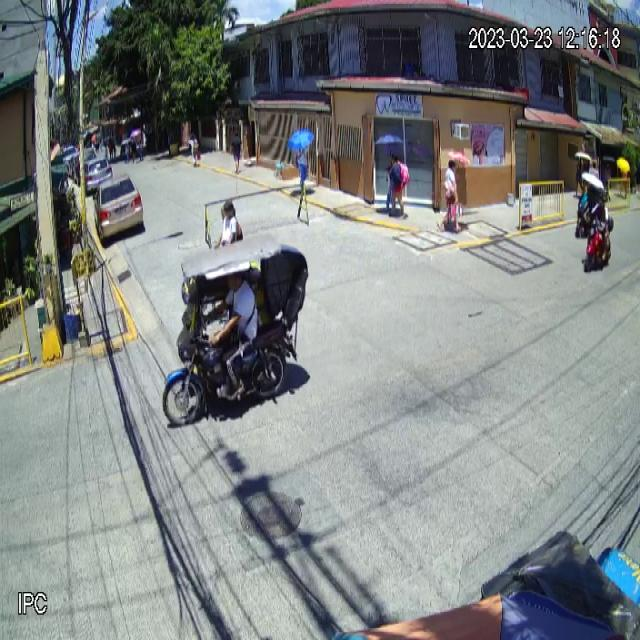Tricycle: (162, 232, 308, 428)
